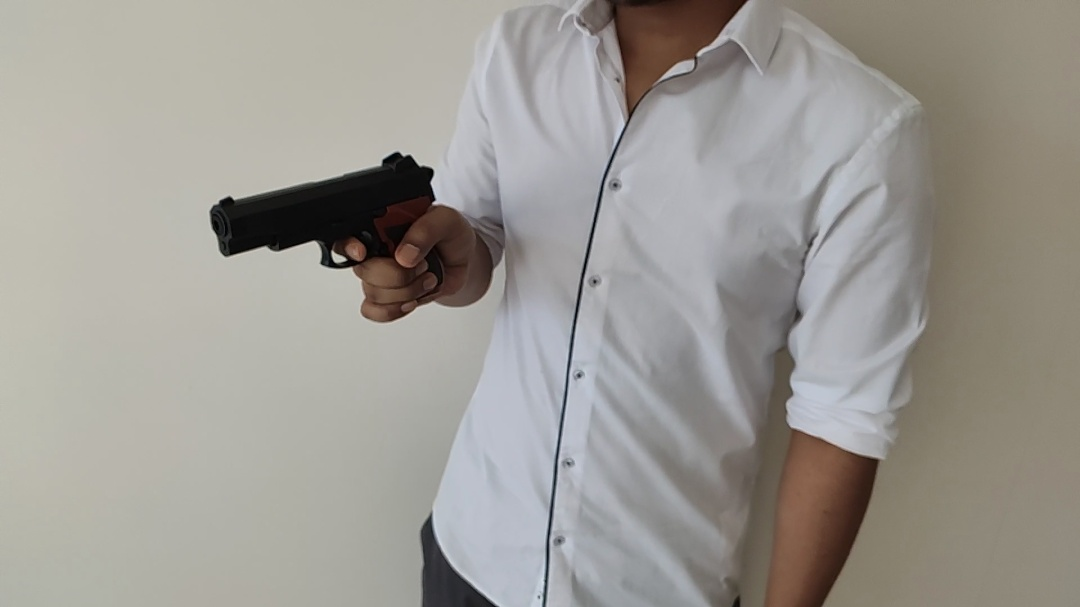gun: (209, 151, 436, 268)
